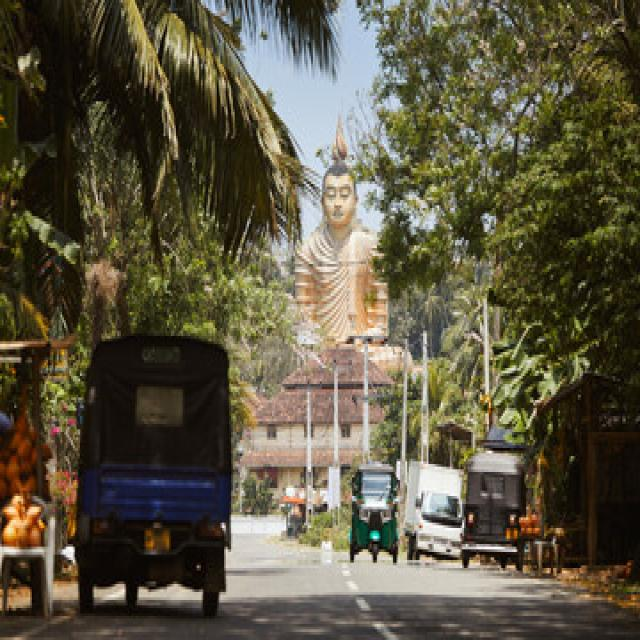three wheeler: (76, 336, 229, 616), (464, 429, 524, 571), (350, 461, 395, 563)
truck: (405, 461, 460, 560)
